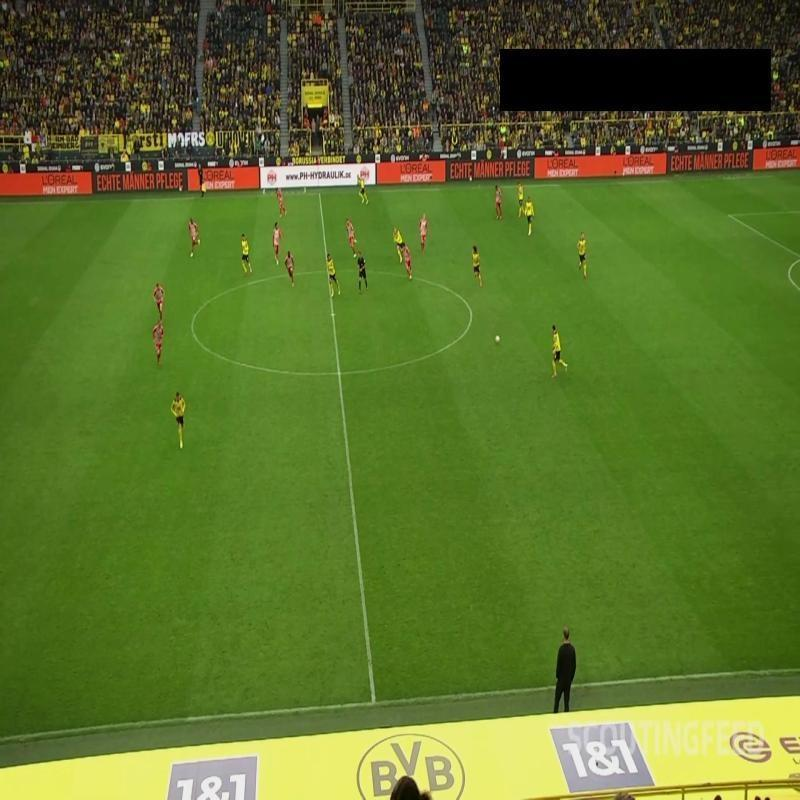13: (312, 185, 326, 199)
14: (320, 266, 334, 280)
15: (332, 366, 346, 380)
16: (364, 691, 384, 713)
9: (722, 208, 736, 222)
c: (462, 302, 480, 319), (186, 320, 200, 334)
